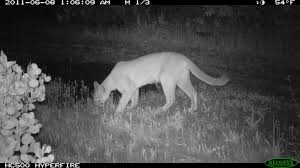Mountain Lion: (90, 52, 228, 116)
